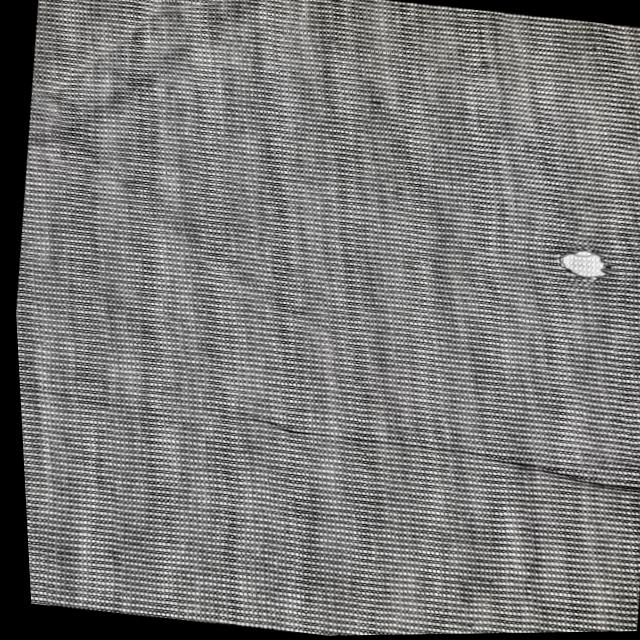Hole: (540, 235, 621, 294)
